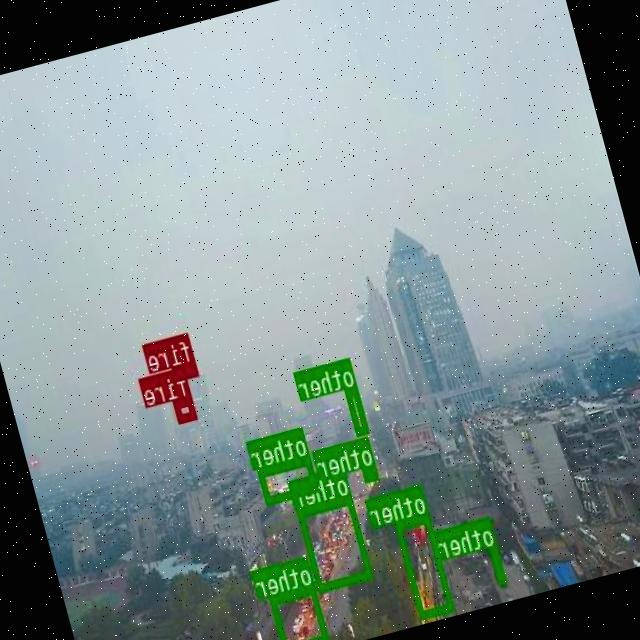fire: (173, 394, 198, 421), (173, 360, 199, 380)
